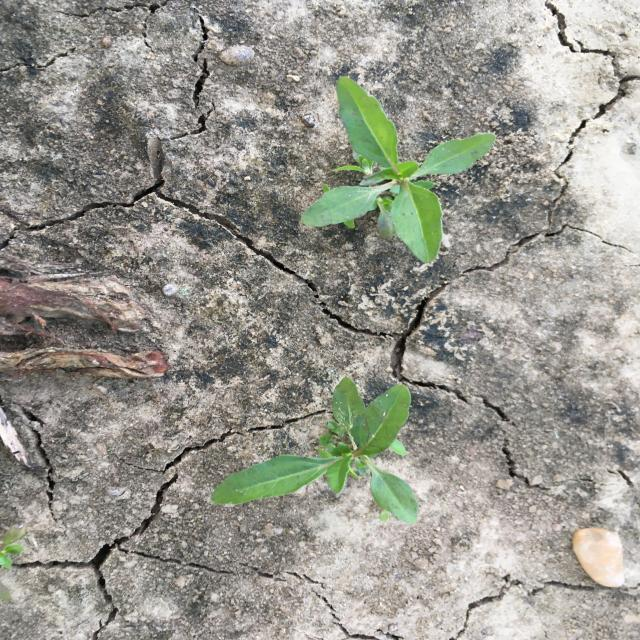Eclipta: (298, 74, 500, 266), (208, 375, 422, 527)
